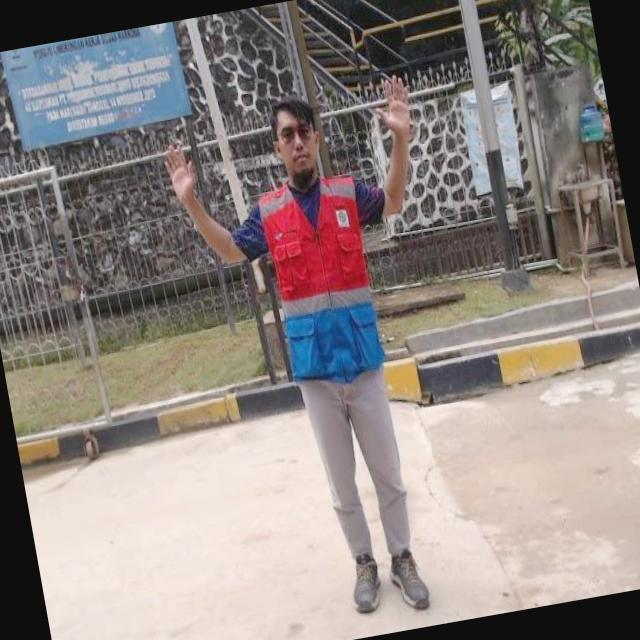vest: (253, 168, 394, 386)
